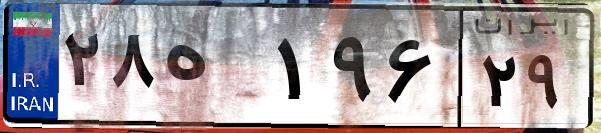1: (270, 28, 330, 110)
2: (57, 26, 110, 100), (475, 38, 525, 113)
6: (385, 28, 445, 110)
8: (110, 28, 158, 98)
9: (330, 28, 385, 110), (525, 38, 570, 115)
ه: (158, 20, 270, 120)
